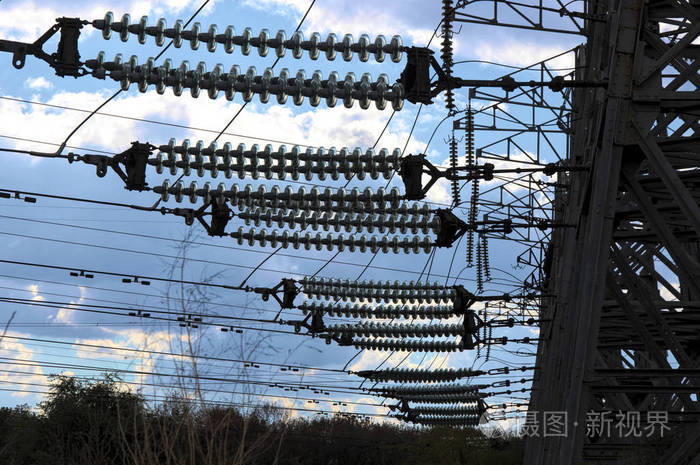insulator: (89, 50, 405, 113), (94, 10, 405, 65), (148, 137, 401, 181), (155, 177, 403, 213), (231, 226, 445, 257), (228, 208, 434, 234), (294, 275, 452, 303), (298, 302, 460, 319), (321, 319, 465, 338), (382, 383, 487, 406), (350, 336, 469, 354), (408, 403, 487, 428), (376, 362, 477, 381), (441, 1, 458, 108), (447, 139, 462, 204), (463, 108, 475, 170), (465, 209, 477, 262), (482, 237, 497, 277), (474, 241, 485, 290), (472, 177, 482, 219)
